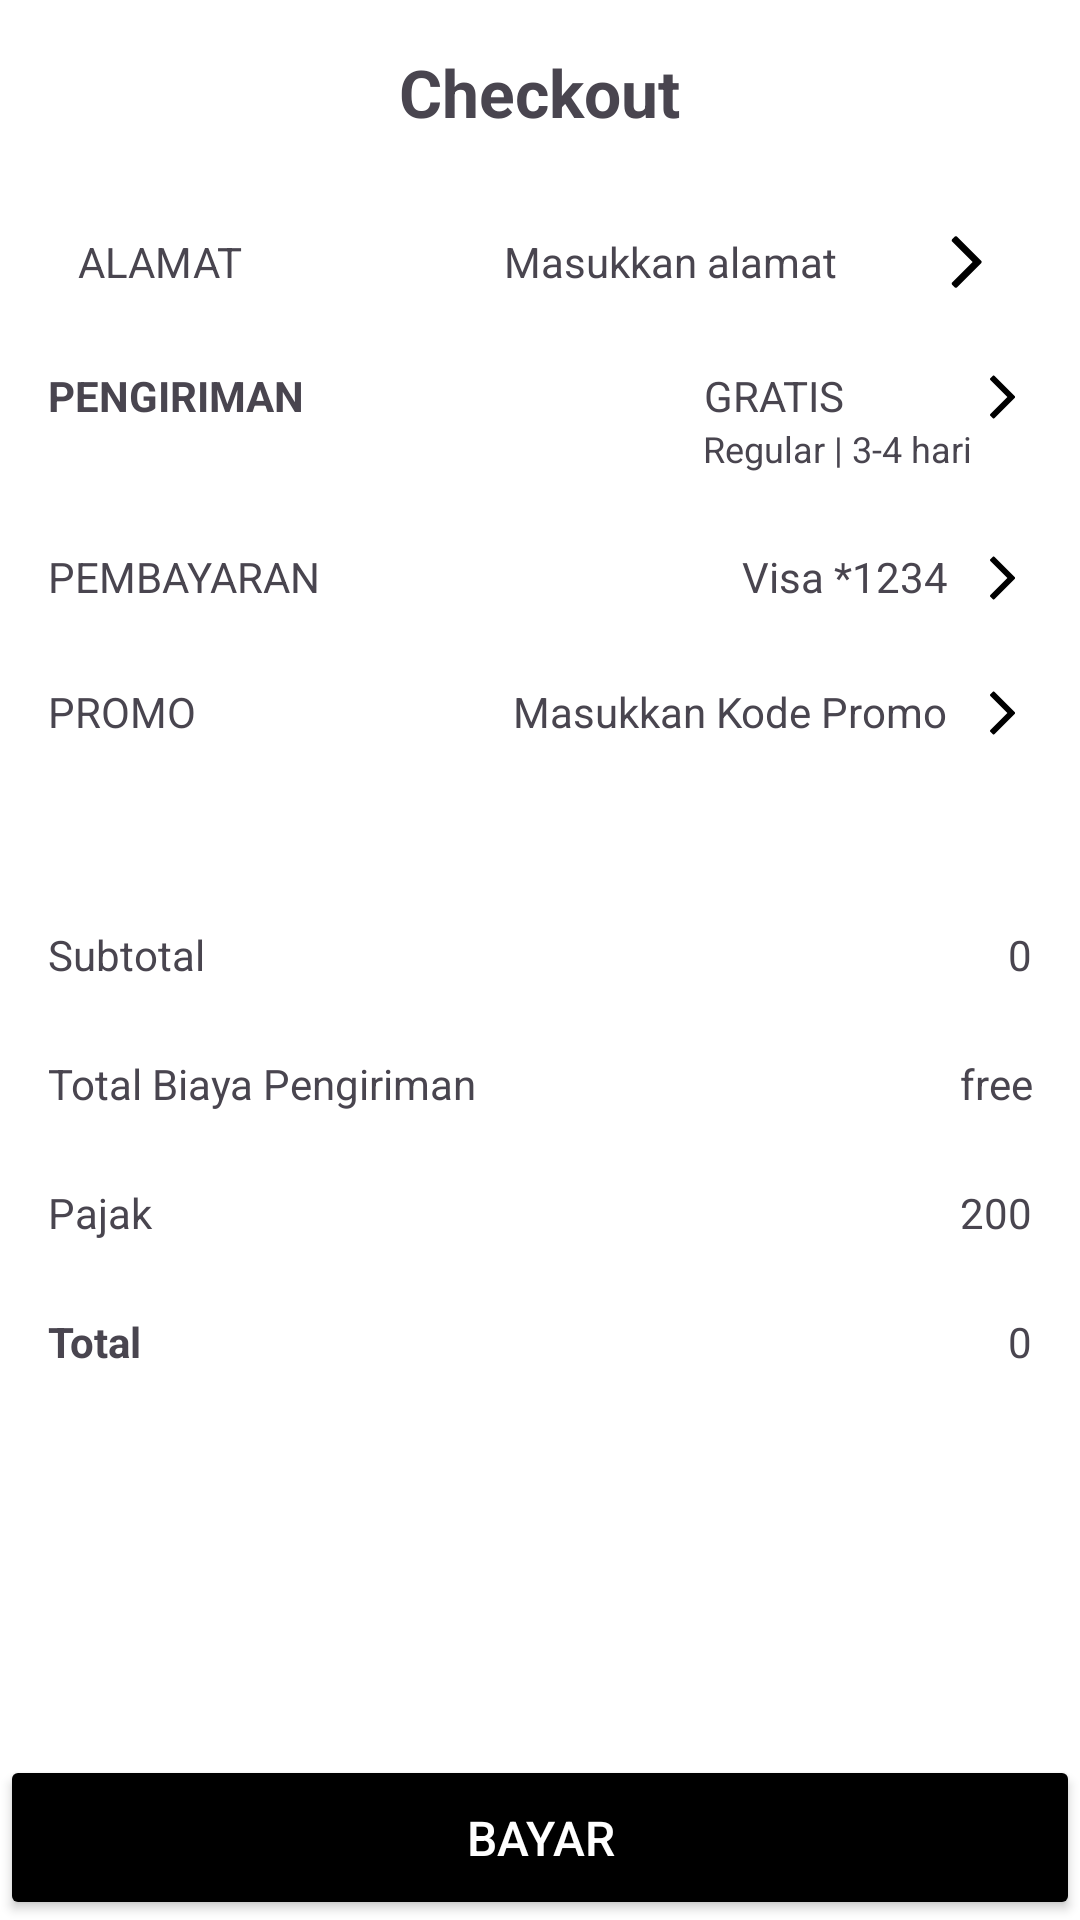

Screen size 1080px×1920px. Icon name, then its center in pixels as point (x, y):
arrow right: point (966, 262), point (1002, 397), point (1002, 578), point (1002, 713)
